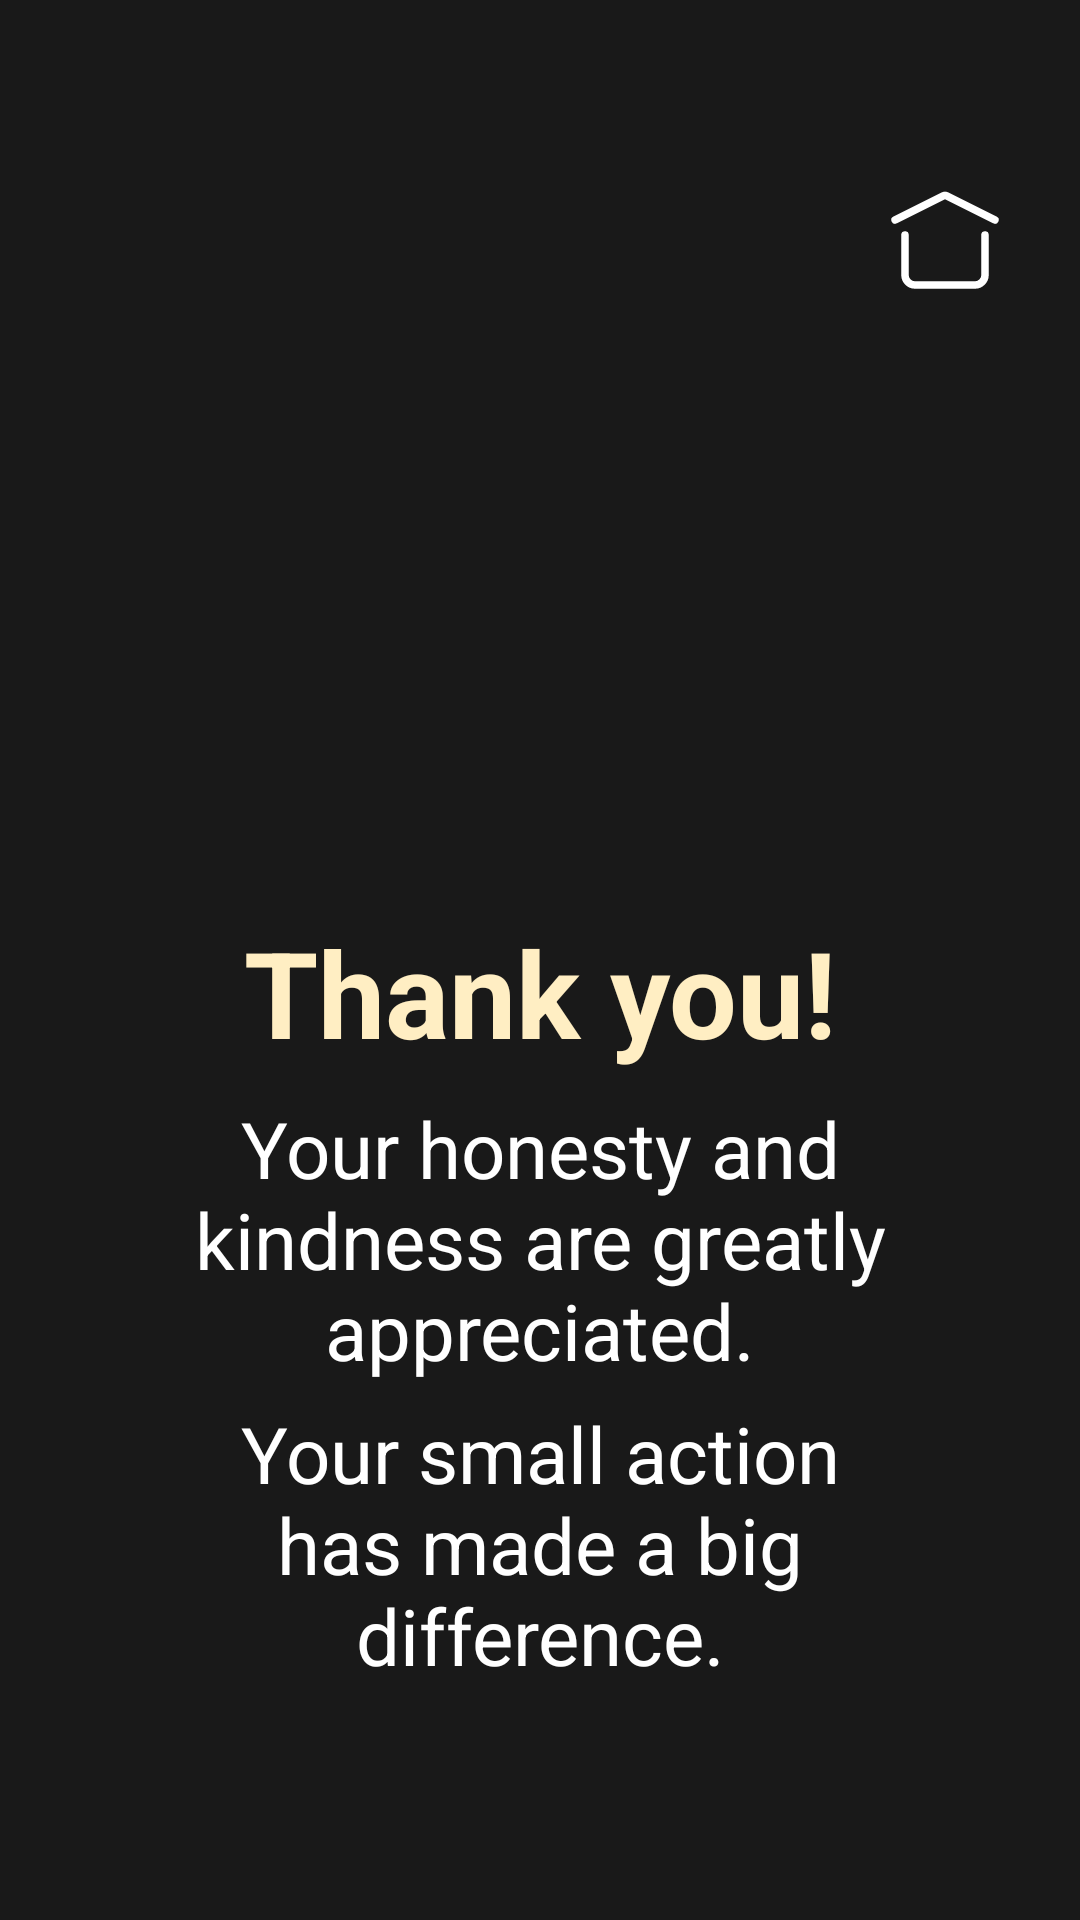

Icons on this 1080x1920 Android screen, each with its box as (x1, y1, x2, y2):
home: (891, 191, 999, 289)
